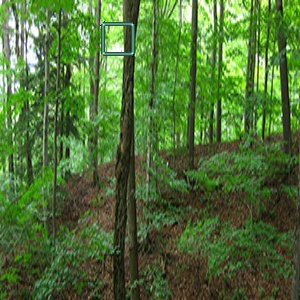square: (99, 20, 136, 57)
